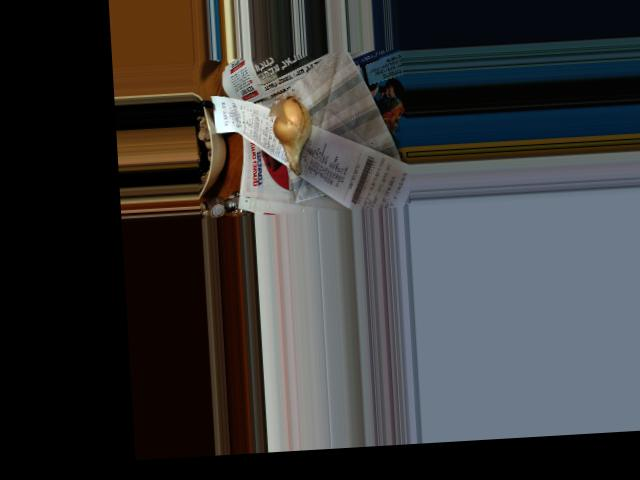onion: (270, 94, 312, 162)
